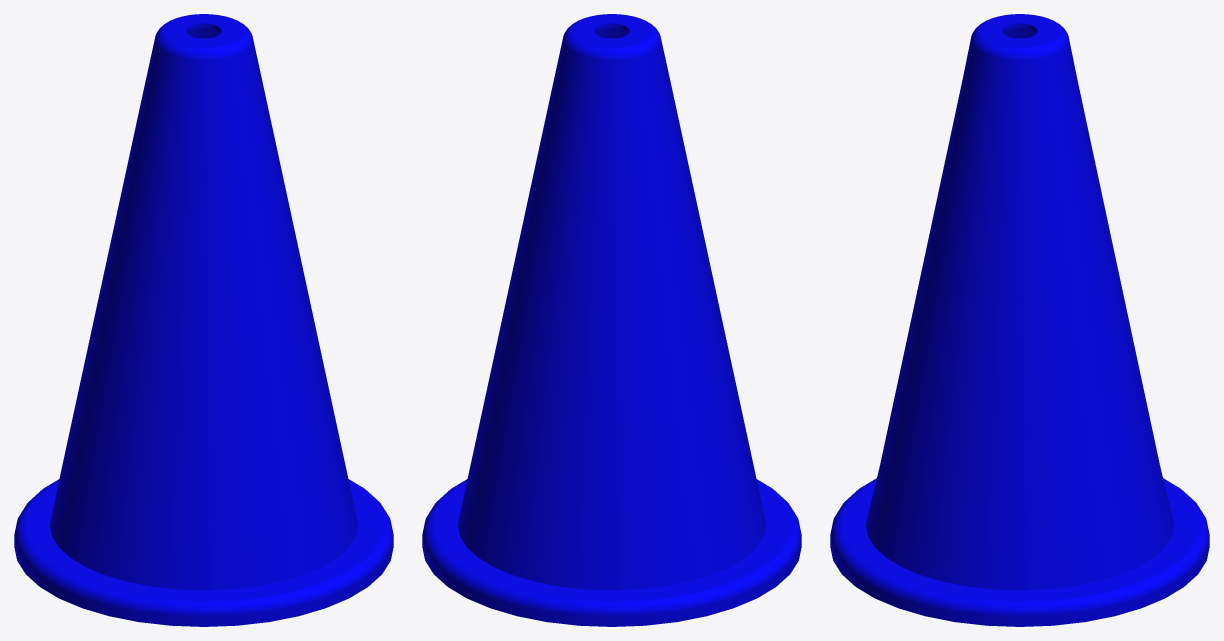
3 views of the same model, side by side, from view 1: azimuth 30°, elevation 25°; view 2: azimuth 150°, elevation 25°; view 3: azimuth 270°, elevation 25° (orthographic).
Visible parts, largest first — view 1: Gemstone; view 2: Gemstone; view 3: Gemstone.
Part boxes in pixels (bbox=[...]): Gemstone: bbox=[14, 14, 393, 626]; Gemstone: bbox=[422, 14, 801, 626]; Gemstone: bbox=[830, 14, 1209, 626].
Size of the model in its own units: 0.2032 by 0.3048 by 0.2032.
